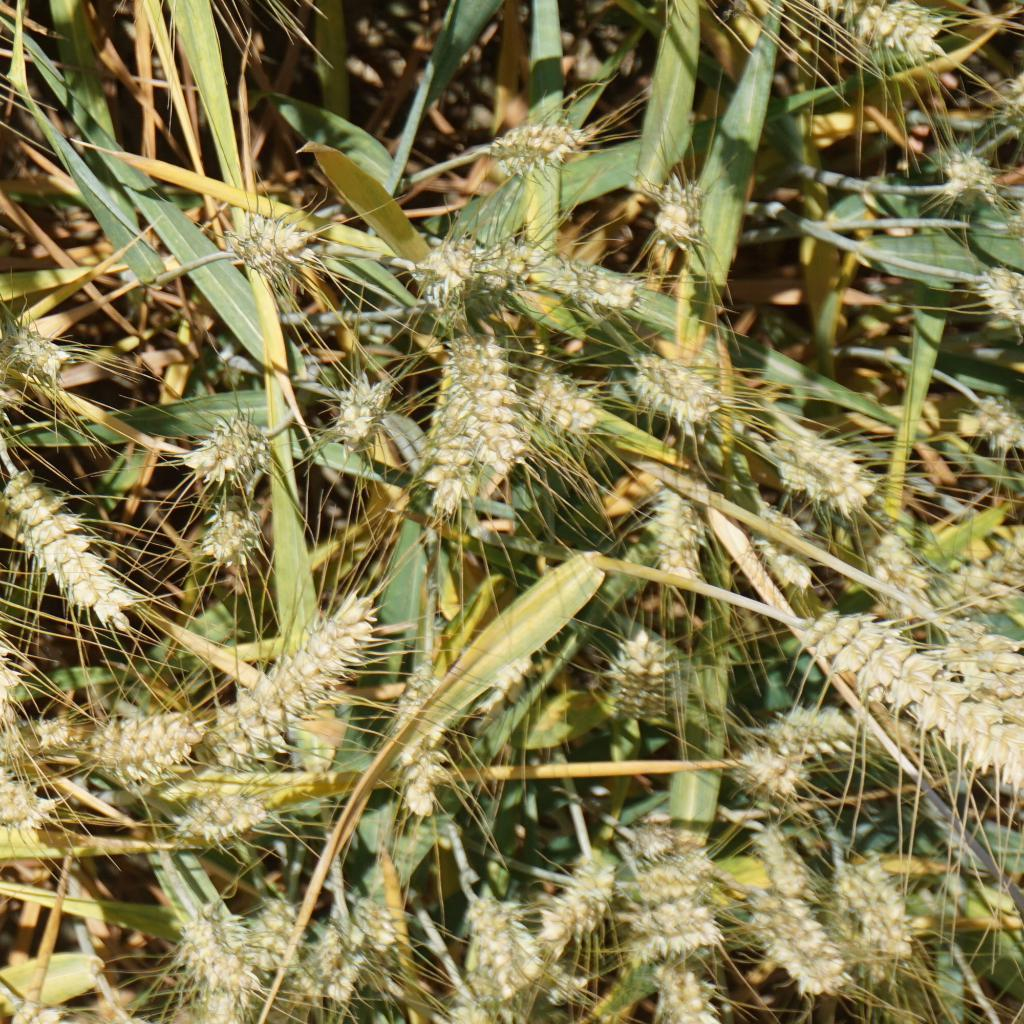0-0: (791, 607, 1024, 781), (195, 566, 365, 752), (0, 451, 135, 627), (739, 879, 848, 1004), (837, 847, 932, 984), (452, 877, 547, 1005), (372, 651, 452, 799), (764, 419, 881, 513), (618, 854, 711, 954), (170, 874, 246, 991), (208, 201, 316, 283), (418, 364, 476, 512), (214, 687, 311, 771), (486, 107, 598, 177), (620, 334, 708, 422), (183, 393, 264, 487), (456, 342, 513, 469), (177, 768, 267, 848), (835, 0, 952, 59), (751, 503, 824, 597), (82, 695, 188, 759), (597, 625, 668, 720), (945, 620, 1022, 707), (415, 233, 484, 328), (743, 816, 820, 899), (647, 484, 712, 581), (527, 369, 604, 449), (325, 368, 392, 456), (632, 176, 718, 244), (649, 944, 722, 1024), (347, 886, 413, 974), (768, 699, 866, 758), (864, 526, 930, 605), (947, 554, 1024, 620), (933, 146, 1011, 211), (0, 746, 56, 832), (1, 310, 69, 379), (305, 900, 362, 982), (241, 890, 303, 963), (196, 495, 264, 561), (553, 840, 601, 932), (967, 388, 1024, 465), (733, 738, 803, 799), (557, 252, 630, 307), (470, 252, 526, 323), (972, 252, 1024, 321), (24, 700, 73, 768), (640, 810, 689, 870), (994, 71, 1024, 139)
